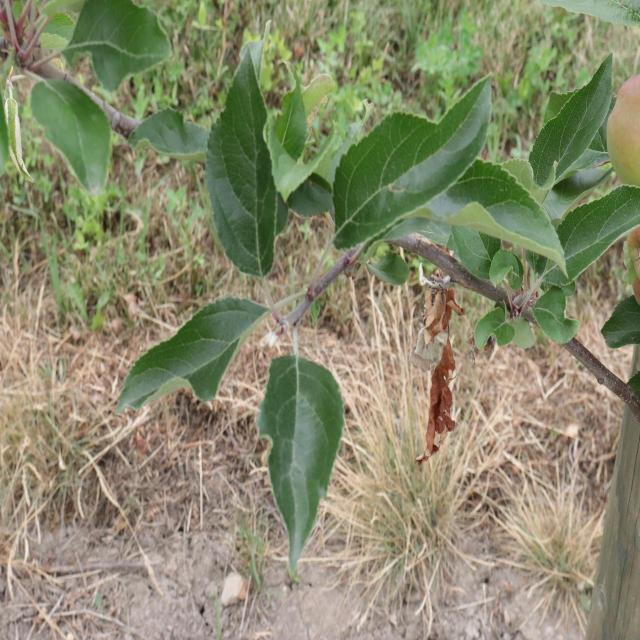-FireBlight-: (413, 269, 470, 472)
